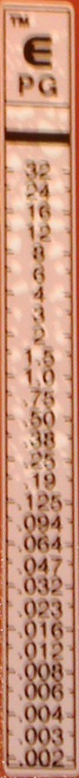number: (18, 748, 68, 769), (16, 513, 65, 534), (16, 555, 65, 576), (17, 725, 66, 746), (18, 620, 66, 641), (18, 577, 65, 598), (19, 704, 66, 725), (17, 599, 66, 619), (18, 642, 67, 662), (15, 493, 63, 513), (18, 682, 66, 702), (18, 534, 63, 555), (17, 663, 66, 682), (20, 347, 60, 368), (22, 429, 62, 450), (20, 389, 59, 410), (20, 159, 55, 182), (23, 471, 60, 492), (24, 450, 60, 470), (23, 410, 60, 429), (22, 369, 57, 388), (22, 182, 55, 202), (24, 244, 56, 264), (25, 223, 55, 244), (27, 203, 55, 222), (29, 264, 52, 286), (30, 304, 49, 325), (29, 286, 49, 304), (31, 326, 48, 347)
